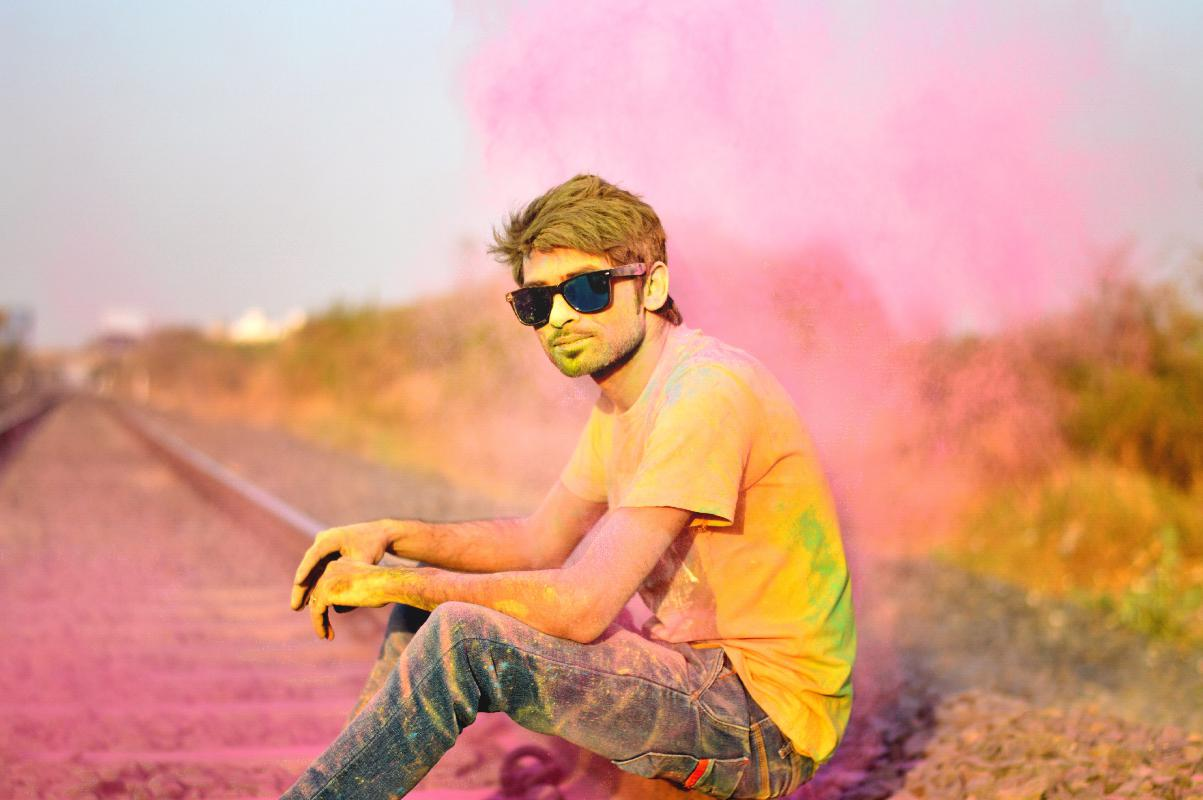Person: (276, 176, 861, 800)
